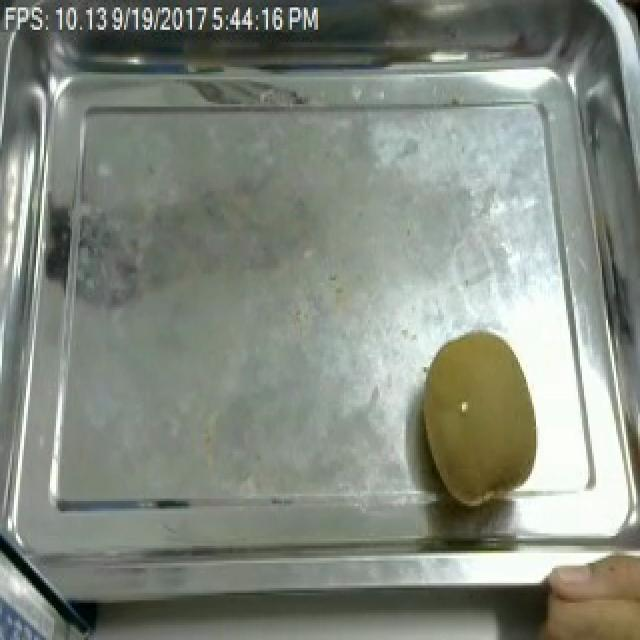Fruit: (408, 325, 550, 513)
